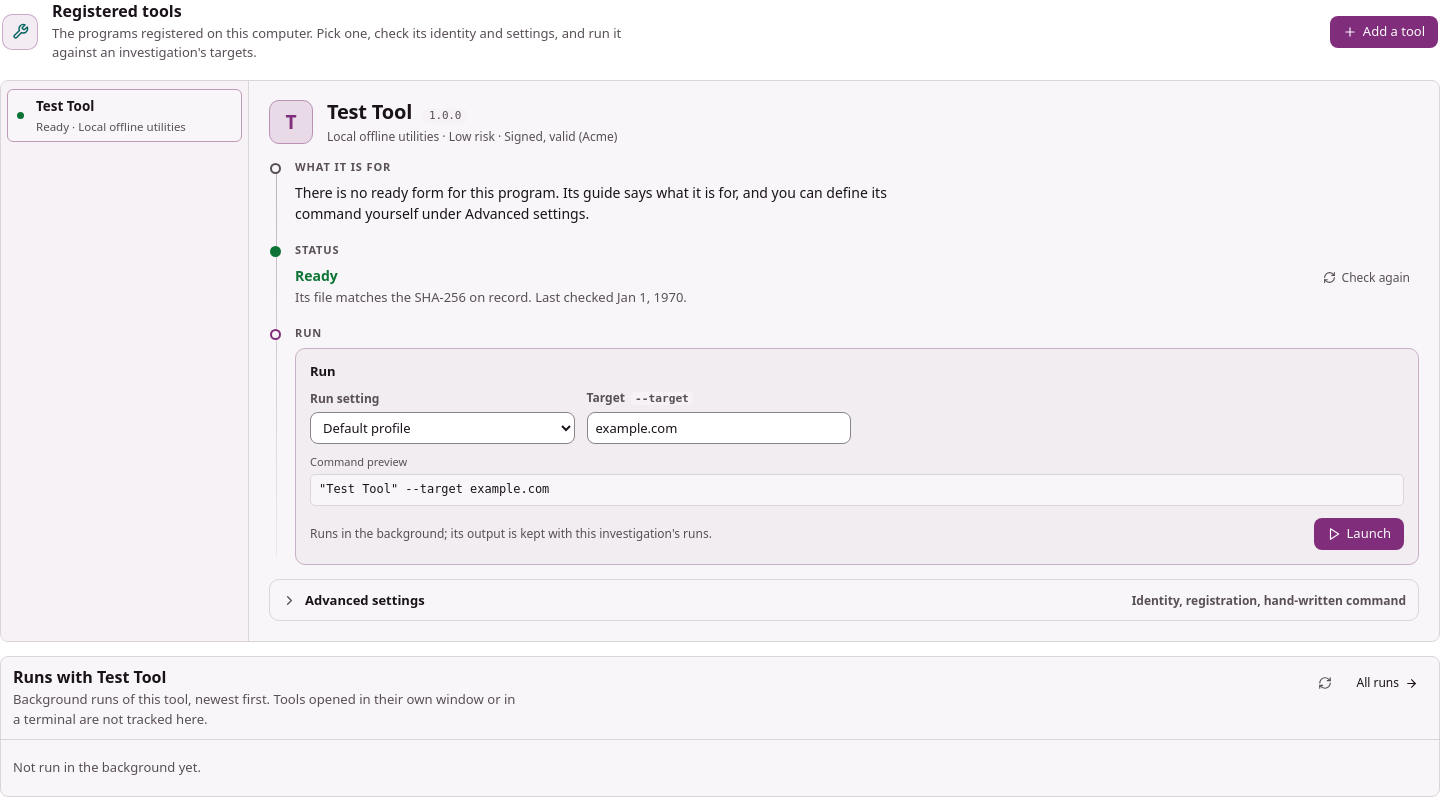
ToolLabPanel run card › keeps identity and the argument editor folded until asked for
The width and height of the screenshot is (1440, 806).
Expected: the button "Launch" is shown, x1=1314 y1=518 x2=1404 y2=550
Note: One fold holds the record and the argument editor.
Click the button "Advanced settings".
click(365, 600)  # box x1=270 y1=580 x2=1418 y2=620
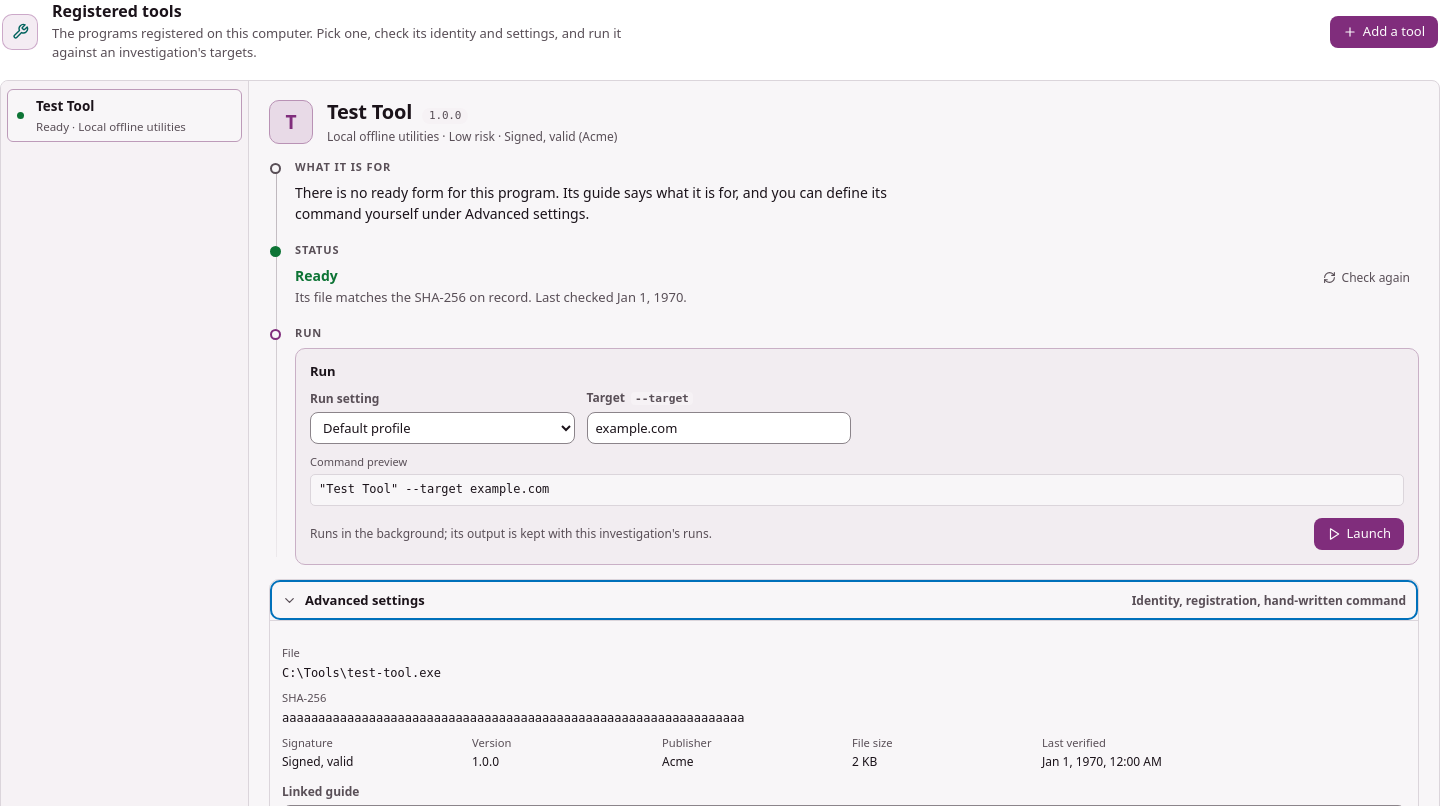
Now the text "C:\\Tools\\test-tool.exe" is shown, box x1=282 y1=666 x2=441 y2=680
Now the text "Signed, valid" is shown, box x1=282 y1=753 x2=353 y2=770
